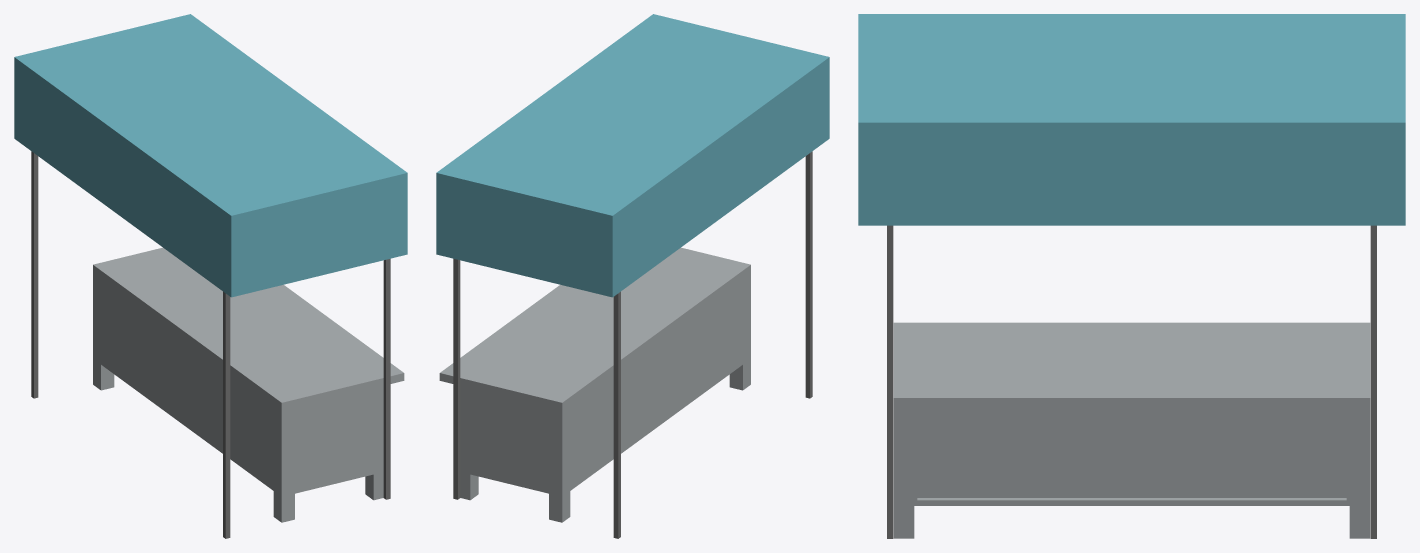
File: booth1.2.fbx
The picture shows the model from 3 angles, left to right: view 1: azimuth 30°, elevation 25°; view 2: azimuth 150°, elevation 25°; view 3: azimuth 270°, elevation 25°; orthographic projection. The views are drawn at different scales.
Visible parts, largest first — view 1: Cube.001, Cube.002, Cube.003; view 2: Cube.001, Cube.002, Cube.003; view 3: Cube.001, Cube.002, Cube.003.
Boxes of the visible parts, box(x1,y1,x2,y2) form: Cube.001: box(14, 14, 407, 297); Cube.002: box(93, 247, 404, 522); Cube.003: box(31, 151, 390, 538); Cube.001: box(436, 14, 829, 297); Cube.002: box(439, 247, 750, 522); Cube.003: box(453, 151, 812, 538); Cube.001: box(858, 14, 1405, 225); Cube.002: box(893, 322, 1370, 538); Cube.003: box(887, 225, 1376, 538).
Bounding box in the file's own units: 1244 × 2116 × 2500.
